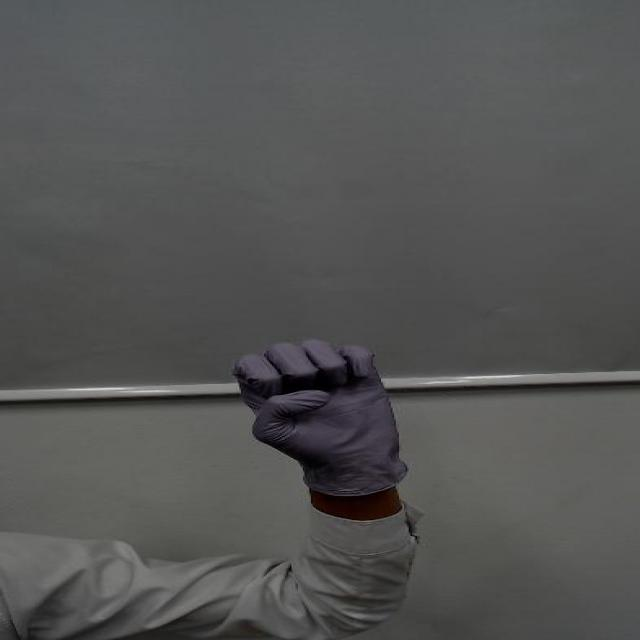with_gloves: (219, 326, 429, 458)
